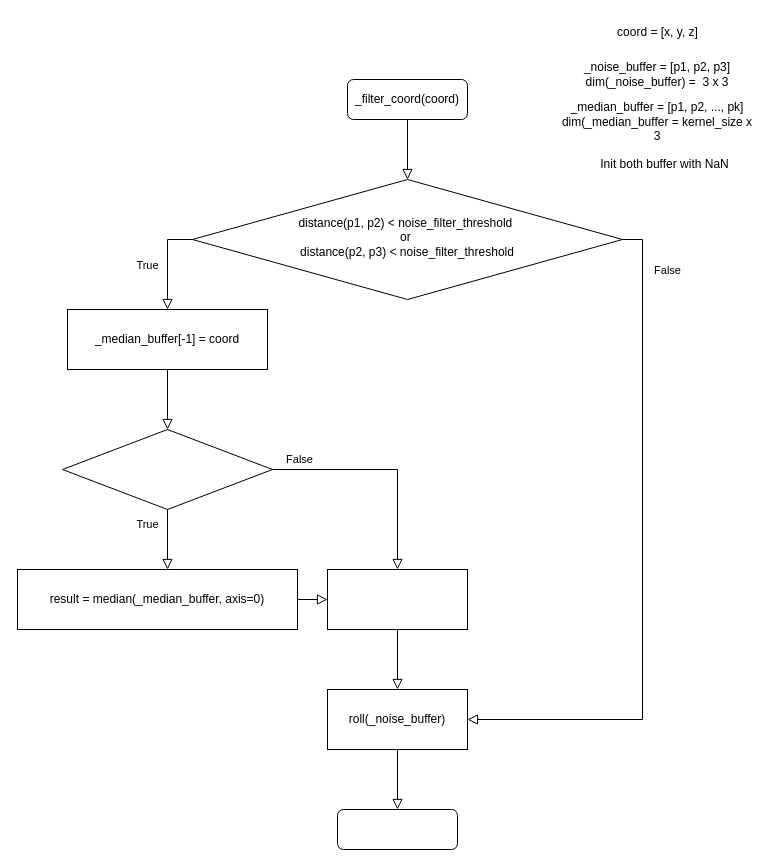
Image size: 775x867. Some labels were removed from this diagram. The centre of each missing label's shape, as x and y in pixels:
"Nan is not in _median_buffer" belongs at (167,469).
"return result" belongs at (397,829).
"roll(_median_buffer)" belongs at (397,599).
